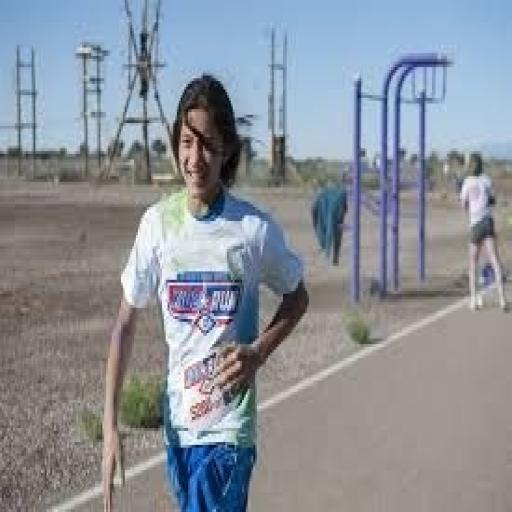running: (97, 70, 311, 509), (456, 148, 510, 314)
